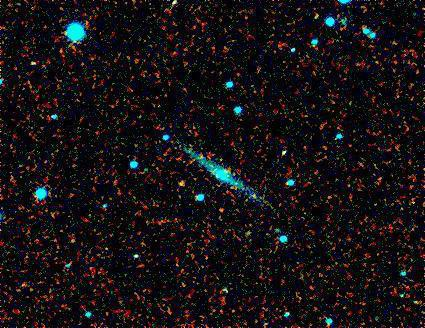star: (165, 167, 195, 197)
